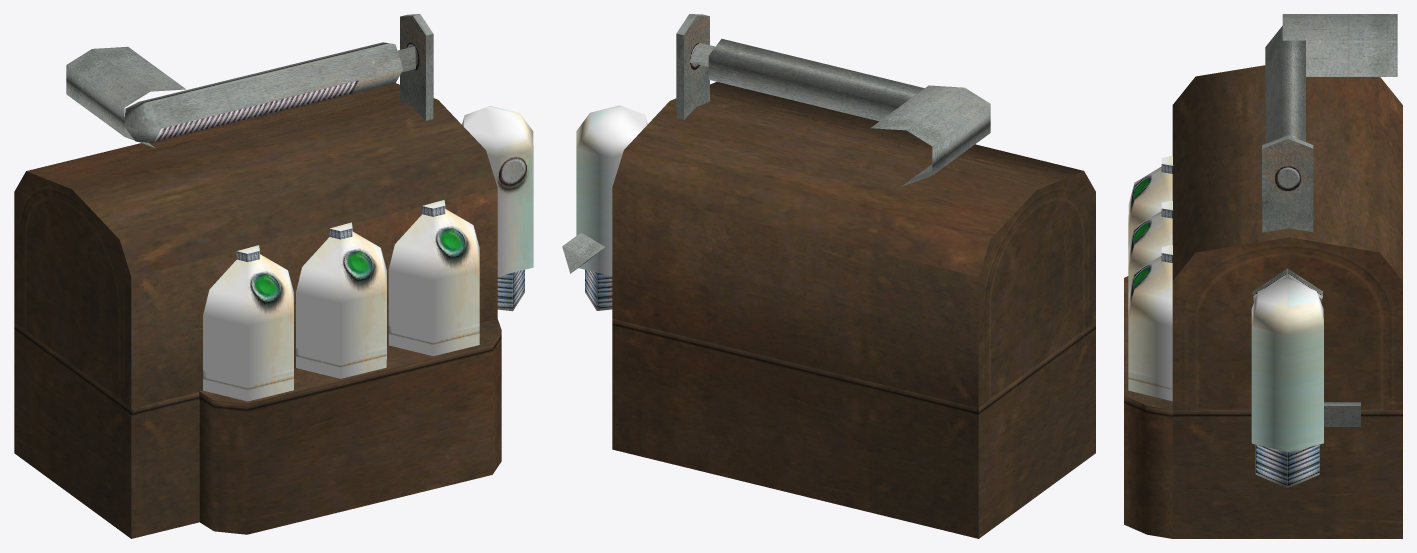
Rendered from eqp_tailor_clothing_dye_kit_s1_l0.fbx.
3 renders of one model, left to right at view 1: azimuth 30°, elevation 25°; view 2: azimuth 150°, elevation 25°; view 3: azimuth 270°, elevation 25°, orthographic.
Visible parts, largest first — view 1: mesh_node; view 2: mesh_node; view 3: mesh_node.
Boxes of the visible parts, <box> form: mesh_node: <box>14,14,533,538</box>; mesh_node: <box>562,14,1095,538</box>; mesh_node: <box>1124,14,1402,538</box>.
Size of the model in its own units: 0.47 by 0.3873 by 0.2502.
